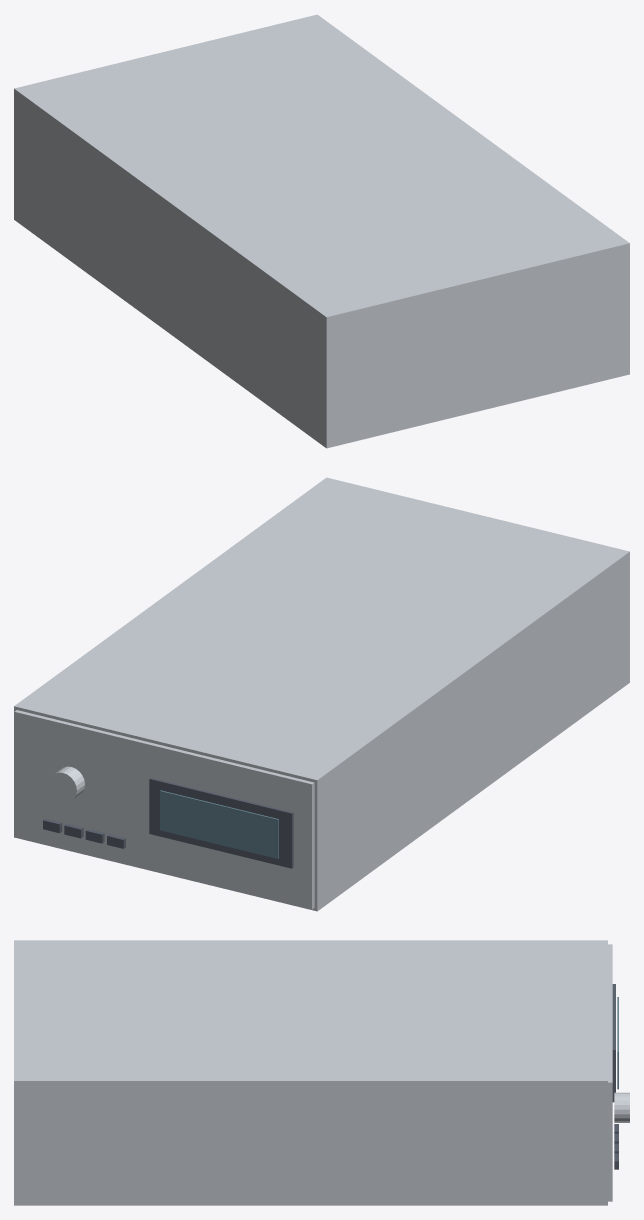
The model's file is wst-laser-new.glb.
The picture shows the model from 3 angles, top to bottom: view 1: azimuth 30°, elevation 25°; view 2: azimuth 150°, elevation 25°; view 3: azimuth 270°, elevation 25°; orthographic projection. The views are drawn at different scales.
Visible parts, largest first — view 1: silver enclosure; view 2: silver enclosure, front panel, screen glass, black display bezel, silver rotary control; view 3: silver enclosure, front panel, silver rotary control, black display bezel.
Boxes of the visible parts, x1=… form: silver enclosure: x1=14, y1=14, x2=629, y2=448; silver enclosure: x1=14, y1=477, x2=629, y2=911; front panel: x1=14, y1=710, x2=314, y2=909; screen glass: x1=160, y1=790, x2=278, y2=858; black display bezel: x1=149, y1=777, x2=293, y2=868; silver rotary control: x1=49, y1=766, x2=84, y2=801; silver enclosure: x1=14, y1=940, x2=607, y2=1205; front panel: x1=608, y1=944, x2=612, y2=1201; silver rotary control: x1=614, y1=1092, x2=629, y2=1122; black display bezel: x1=612, y1=984, x2=615, y2=1102.
Size of the model in its own units: 0.213 by 0.096 by 0.394.
